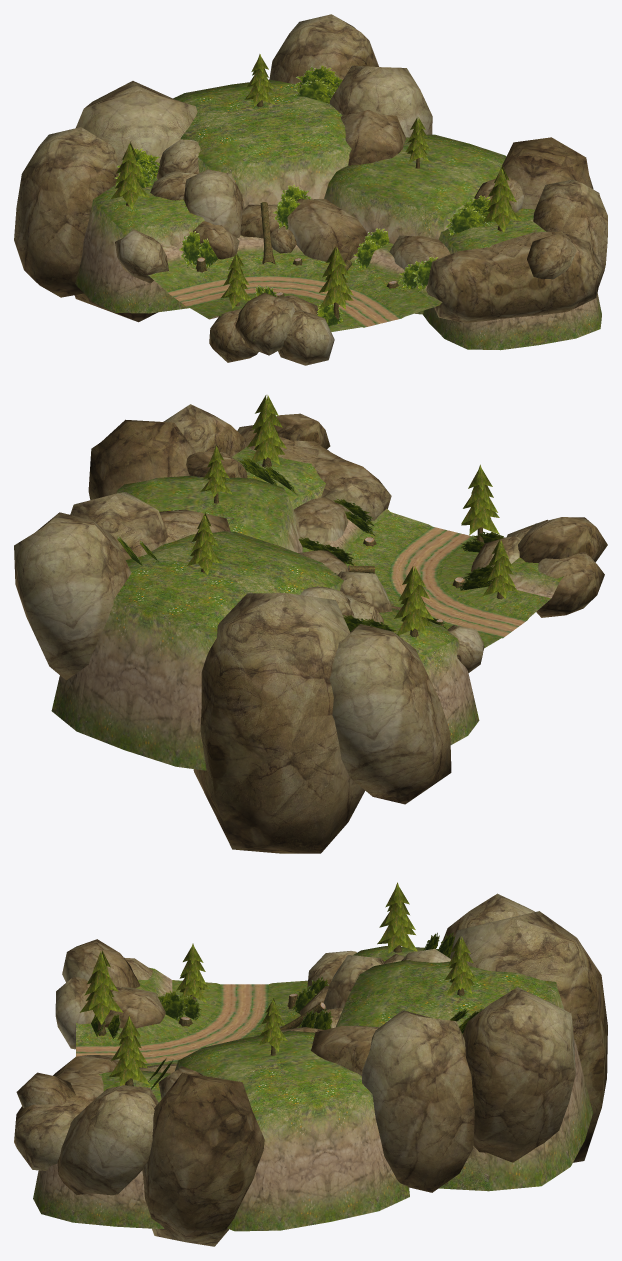
Rendered from BikeRoad013.FBX.
3 renders of one model, top to bottom at view 1: azimuth 30°, elevation 25°; view 2: azimuth 150°, elevation 25°; view 3: azimuth 270°, elevation 25°, orthographic. The views are drawn at different scales.
Visible parts, largest first — view 1: Rock (×22), Ground (×5), Tree (×6), GrassPlane (×5), Log; view 2: Rock (×17), Ground (×5), Tree (×6); view 3: Rock (×14), Ground (×5), Tree (×6), GrassPlane.
Boxes of the visible parts, x1=… form: Rock (×22): x1=14, y1=14, x2=607, y2=365; Ground (×5): x1=75, y1=79, x2=601, y2=350; Tree (×6): x1=111, y1=54, x2=521, y2=321; GrassPlane (×5): x1=116, y1=65, x2=489, y2=267; Log: x1=260, y1=202, x2=275, y2=264; Rock (×17): x1=14, y1=404, x2=607, y2=853; Ground (×5): x1=51, y1=447, x2=563, y2=770; Tree (×6): x1=187, y1=395, x2=517, y2=637; Rock (×14): x1=14, y1=893, x2=607, y2=1246; Ground (×5): x1=33, y1=946, x2=592, y2=1231; Tree (×6): x1=80, y1=882, x2=477, y2=1086; GrassPlane: x1=157, y1=990, x2=187, y2=1021.
Bounding box in the file's own units: 6489 × 3647 × 6805.
